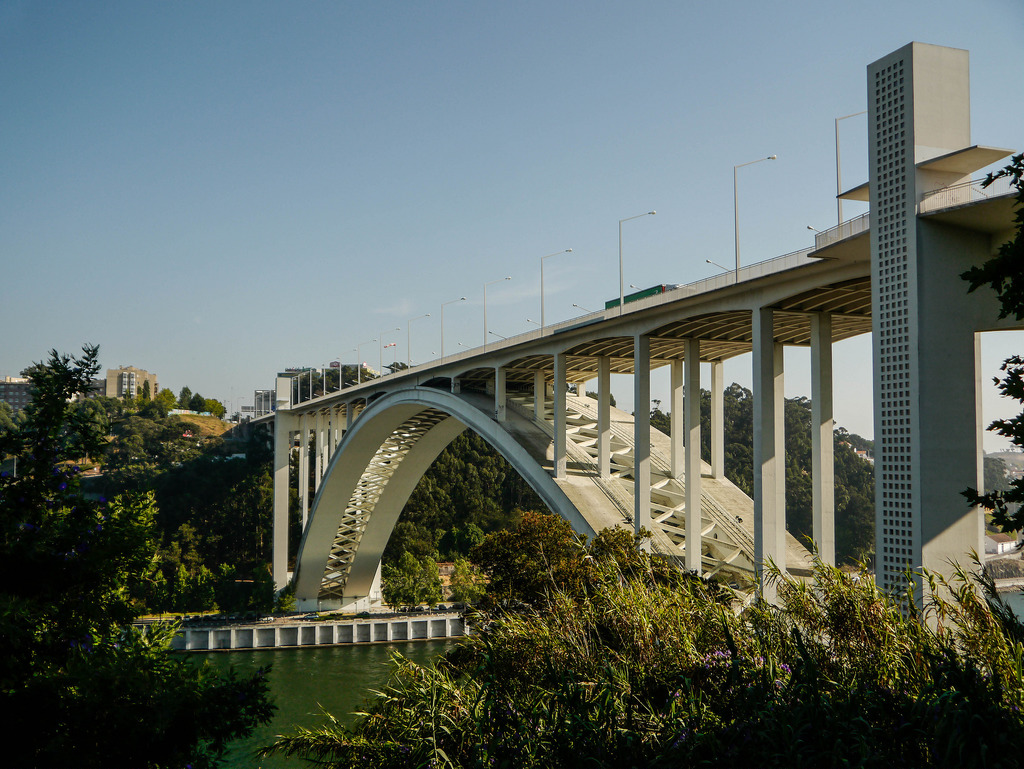arrabida: (250, 37, 1023, 618)
